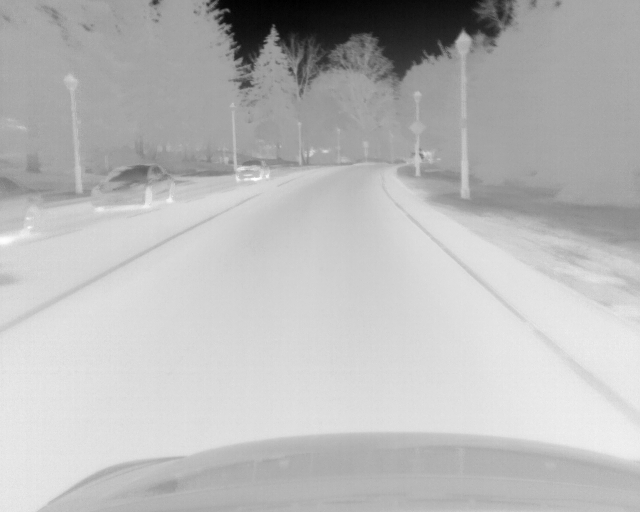car: (92, 162, 176, 212), (1, 176, 45, 241), (235, 158, 271, 184)
